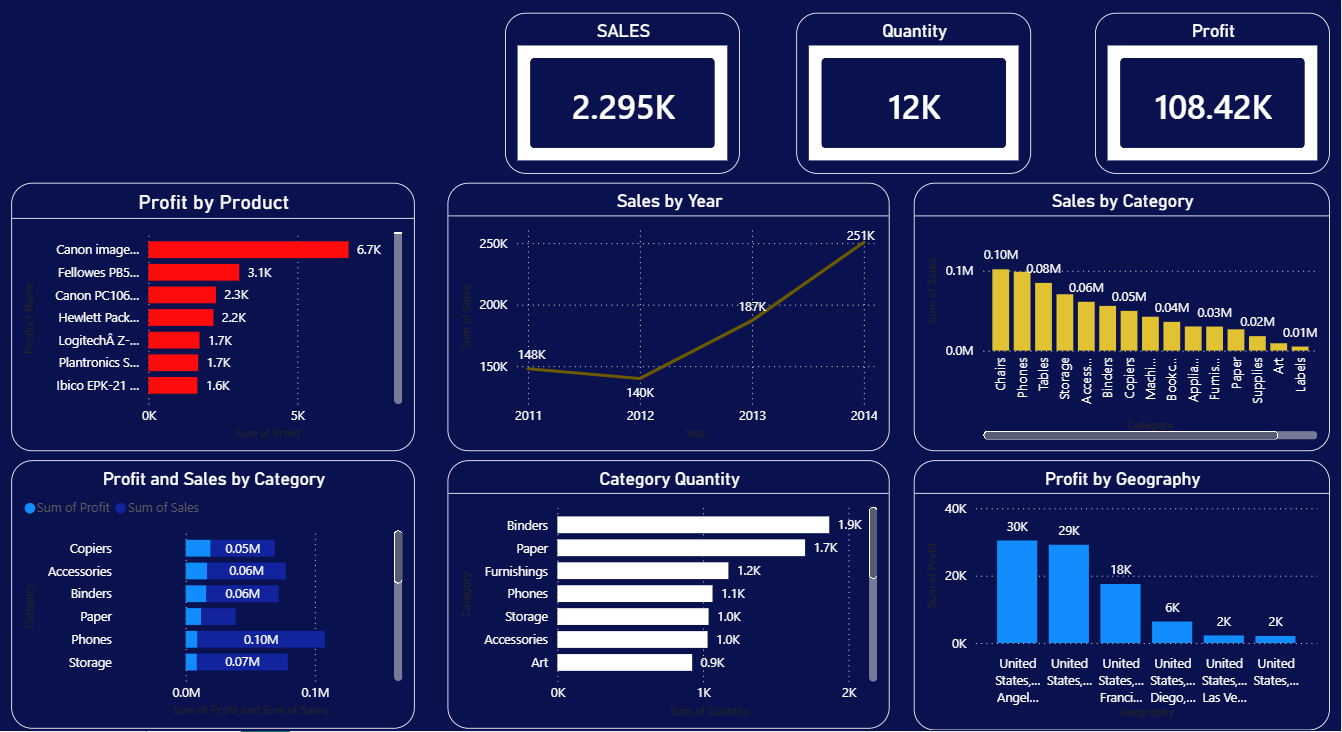

Layout of this report page (visuals, bound fields, positions):
{"tool":"powerbi","page":{"name":"Page 1","canvas":[1280,720],"ordinal":0},"visuals":[{"type":"barChart","title":"Profit by Product","fields":{"Category":["Sheet1.Product Name"],"Y":["Sum(Sheet1.Profit)"]},"box":[10.7,175.2,385,256.3],"z":0},{"type":"lineChart","title":" Sales by Year","fields":{"Category":["Sheet1.Order Date.Variation.Date Hierarchy.Year","Sheet1.Order Date.Variation.Date Hierarchy.Quarter","Sheet1.Order Date.Variation.Date Hierarchy.Month","Sheet1.Order Date.Variation.Date Hierarchy.Day"],"Y":["Sum(Sheet1.Sales)"]},"box":[426.7,175.2,422,256.3],"z":1000},{"type":"columnChart","title":" Sales by Category","fields":{"Category":["Sheet1.Category"],"Y":["Sum(Sheet1.Sales)"]},"box":[871.4,175.2,396.9,256.3],"z":2000},{"type":"barChart","title":" Profit and Sales by Category","fields":{"Category":["Sheet1.Category"],"Y":["Sum(Sheet1.Profit)","Sum(Sheet1.Sales)"]},"box":[10.7,439.9,385,256.3],"z":3000},{"type":"barChart","title":"Category Quantity ","fields":{"Category":["Sheet1.Category"],"Y":["Sum(Sheet1.Quantity)"]},"box":[426.7,439.9,422,256.3],"z":4000},{"type":"columnChart","title":"Profit by Geography","fields":{"Category":["Sheet1.Geography"],"Y":["Sum(Sheet1.Profit)"]},"box":[871.4,439.9,396.9,257.5],"z":5000},{"type":"card","title":"Quantity","fields":{"Values":["Sum(Sheet1.Quantity)"]},"box":[718.8,19.1,282.5,143],"z":6000},{"type":"image","box":[11,12,385,150],"z":7000},{"type":"card","title":"Profit","fields":{"Values":["Sum(Sheet1.Profit)"]},"box":[1010.8,19.1,269.4,143],"z":8000},{"type":"card","title":"Sales","fields":{"Values":["Sum(Sheet1.Sales)"]},"box":[426.7,15.5,282.5,143],"z":9000}]}

Visuals, with their boxes in screenshot pixels (x1, y1, x2, y2):
"Profit by Product" barChart: {"left": 15, "top": 178, "right": 414, "bottom": 444}
" Sales by Year" lineChart: {"left": 446, "top": 178, "right": 884, "bottom": 444}
" Sales by Category" columnChart: {"left": 907, "top": 178, "right": 1319, "bottom": 444}
" Profit and Sales by Category" barChart: {"left": 15, "top": 453, "right": 414, "bottom": 719}
"Category Quantity " barChart: {"left": 446, "top": 453, "right": 884, "bottom": 719}
"Profit by Geography" columnChart: {"left": 907, "top": 453, "right": 1319, "bottom": 720}
"Quantity" card: {"left": 749, "top": 16, "right": 1042, "bottom": 165}
image: {"left": 15, "top": 9, "right": 414, "bottom": 165}
"Profit" card: {"left": 1052, "top": 16, "right": 1331, "bottom": 165}
"Sales" card: {"left": 446, "top": 13, "right": 739, "bottom": 161}
